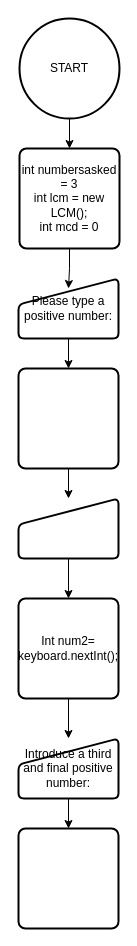
Some shapes in this 137 by 946 pixel diagram are drawn without their labels. Here are the shapes that lost their labels. From the top down, the centre of each, then its label:
At [68,418]: "Int num1= keyboard.nextInt();".
At [68,528]: "Introduce a second positive number:".
At [68,878]: "Int num3= keyboard.nextInt();".
